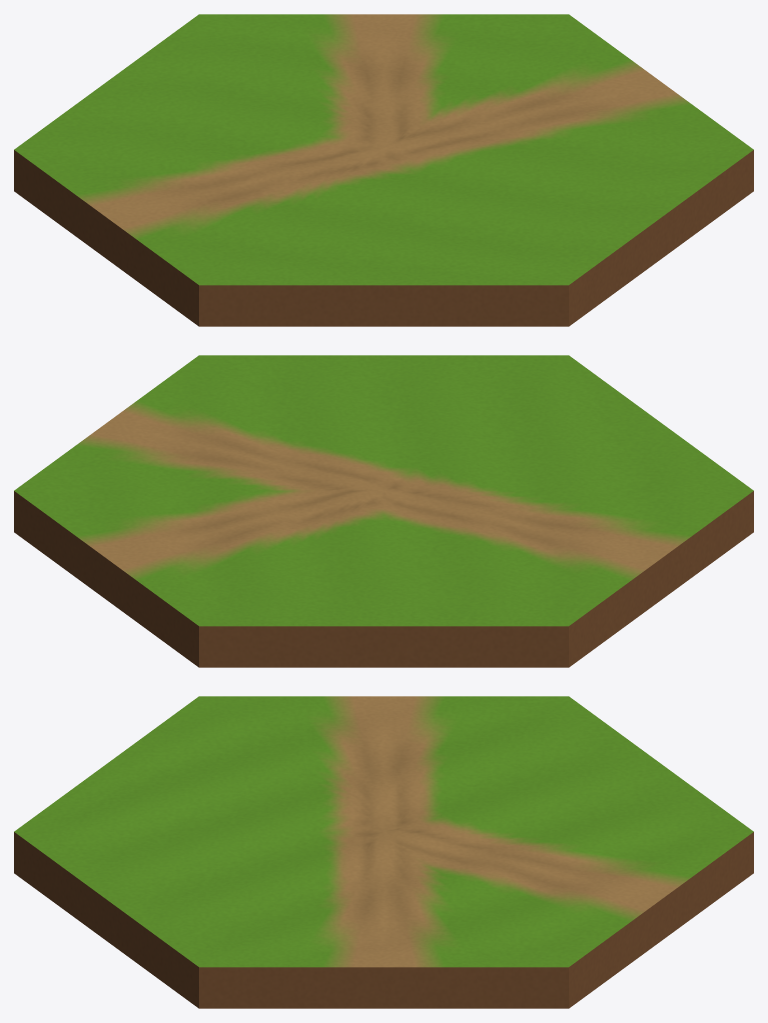
The model's file is SM_CaminoNatural_Cruce_LOD0.fbx.
3 views of the same model, one above another, from view 1: azimuth 30°, elevation 25°; view 2: azimuth 150°, elevation 25°; view 3: azimuth 270°, elevation 25° (orthographic).
Parts seen in each view (by area): view 1: SM_CaminoNatural_Cruce_LOD0; view 2: SM_CaminoNatural_Cruce_LOD0; view 3: SM_CaminoNatural_Cruce_LOD0.
Part boxes in pixels (left/top/right/bottom): SM_CaminoNatural_Cruce_LOD0: left=14, top=14, right=753, bottom=326; SM_CaminoNatural_Cruce_LOD0: left=14, top=355, right=753, bottom=667; SM_CaminoNatural_Cruce_LOD0: left=14, top=696, right=753, bottom=1008.
Bounding box in the file's own units: 1.68 × 0.123 × 1.94.
1 material, 1 textured.
